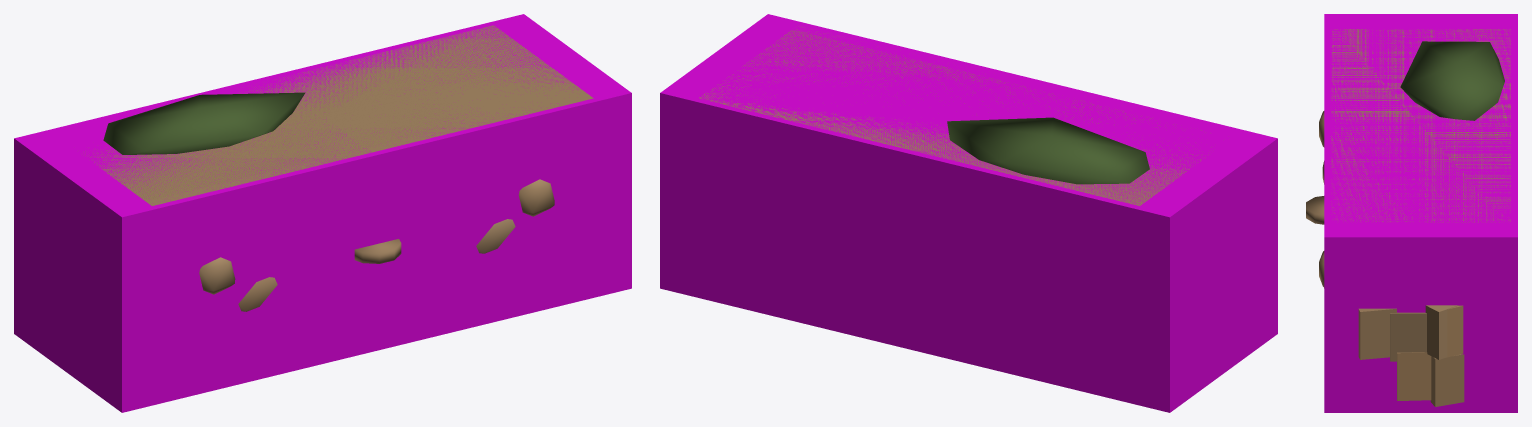
The model's file is PRP_Carved_Fragment_A.glb.
3 views of the same model, side by side, from view 1: azimuth 30°, elevation 25°; view 2: azimuth 150°, elevation 25°; view 3: azimuth 270°, elevation 25° (orthographic). The views are drawn at different scales.
Parts seen in each view (by area): view 1: COL_Block, PRP_Carved_Fragment_A_Mesh; view 2: COL_Block, PRP_Carved_Fragment_A_Mesh; view 3: COL_Block, PRP_Carved_Fragment_A_Mesh.
Boxes of the visible parts, x1=… form: COL_Block: x1=14, y1=14, x2=631, y2=412; PRP_Carved_Fragment_A_Mesh: x1=83, y1=25, x2=593, y2=311; COL_Block: x1=660, y1=14, x2=1277, y2=412; PRP_Carved_Fragment_A_Mesh: x1=699, y1=26, x2=1208, y2=205; COL_Block: x1=1324, y1=14, x2=1517, y2=412; PRP_Carved_Fragment_A_Mesh: x1=1306, y1=29, x2=1510, y2=406.
Bounding box in the file's own units: 1.55 × 0.6016 × 0.6016.
